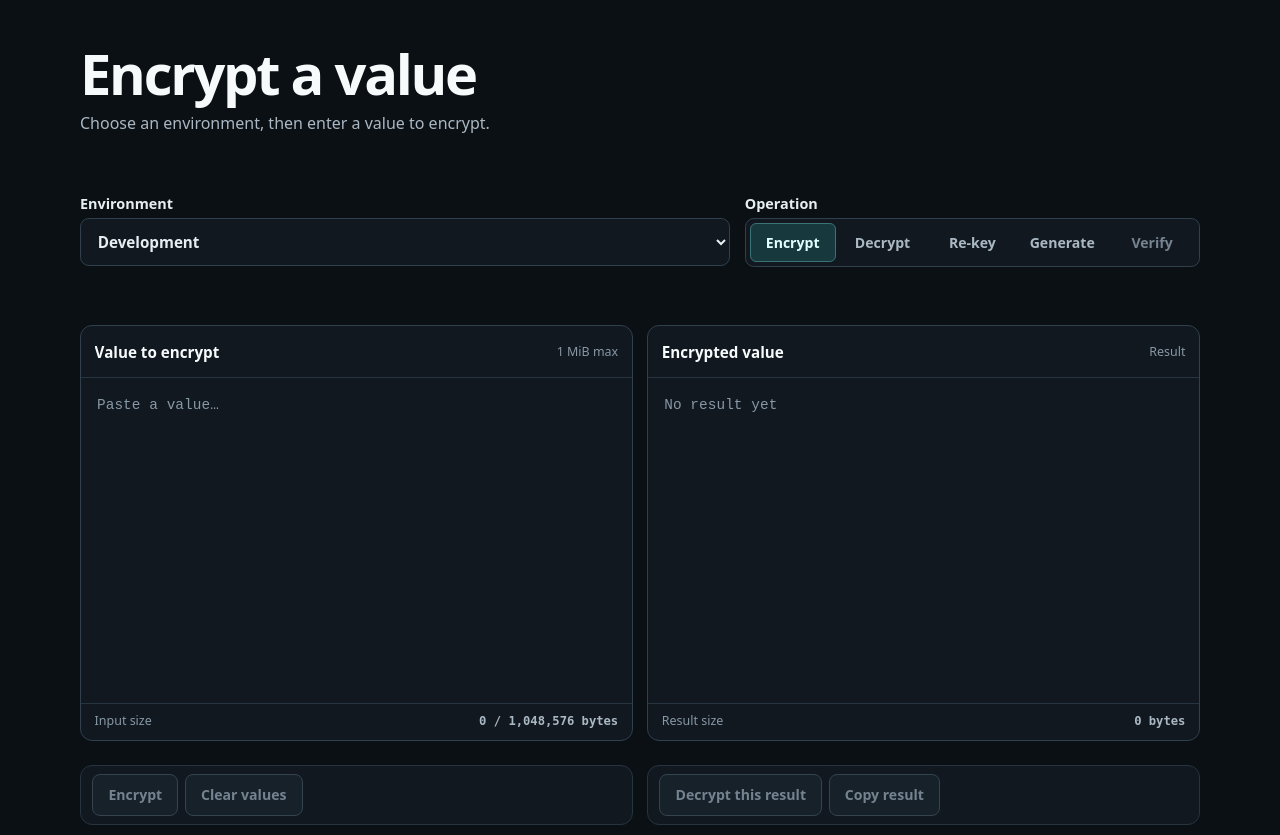
Test: Generate view integration › offers recovery when a forbidden capability refresh fails
The width and height of the screenshot is (1280, 835).
Click the button with aria-label "Set generate mode": (1062, 242) [1019,223,1105,262]
(page scrolled)
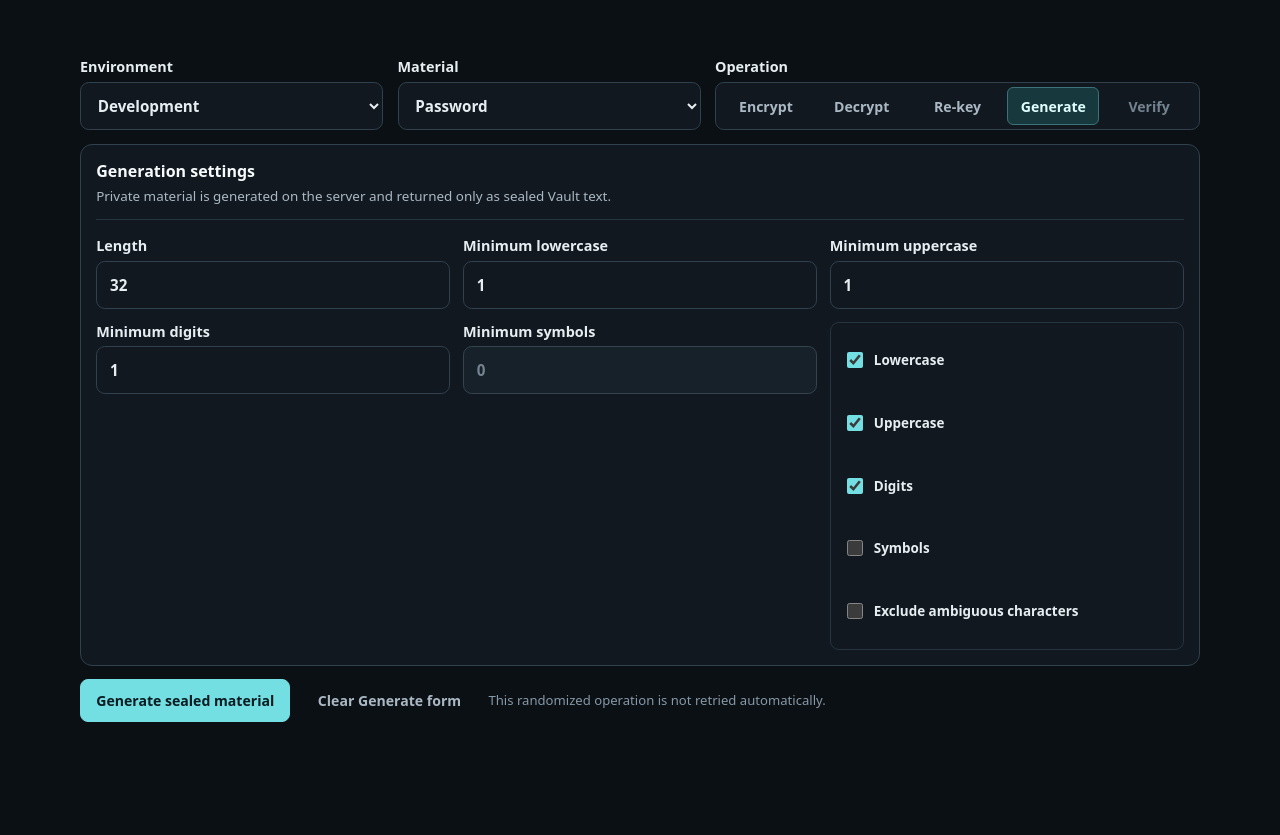
Click the button "Generate sealed material": (185, 701) [80,679,290,722]
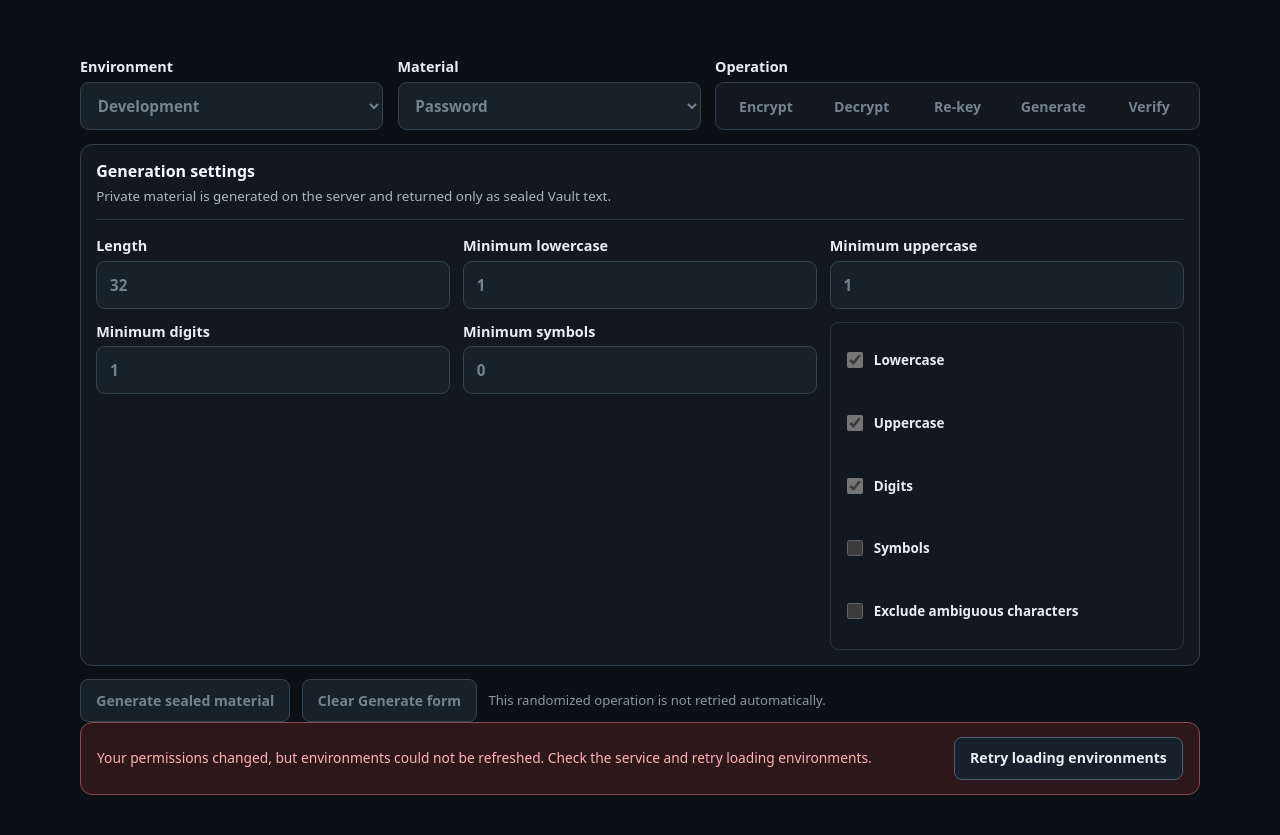
Check: the button with aria-label "Set encrypt mode" is disabled, box [720,87,812,125]
Check: the message shows "environments could not be refreshed", box [97,748,872,767]
Check: the button "Retry loading environments" is enabled
Click the button "Retry loading environments": (1068, 758) [954,737,1183,780]
(page scrolled)
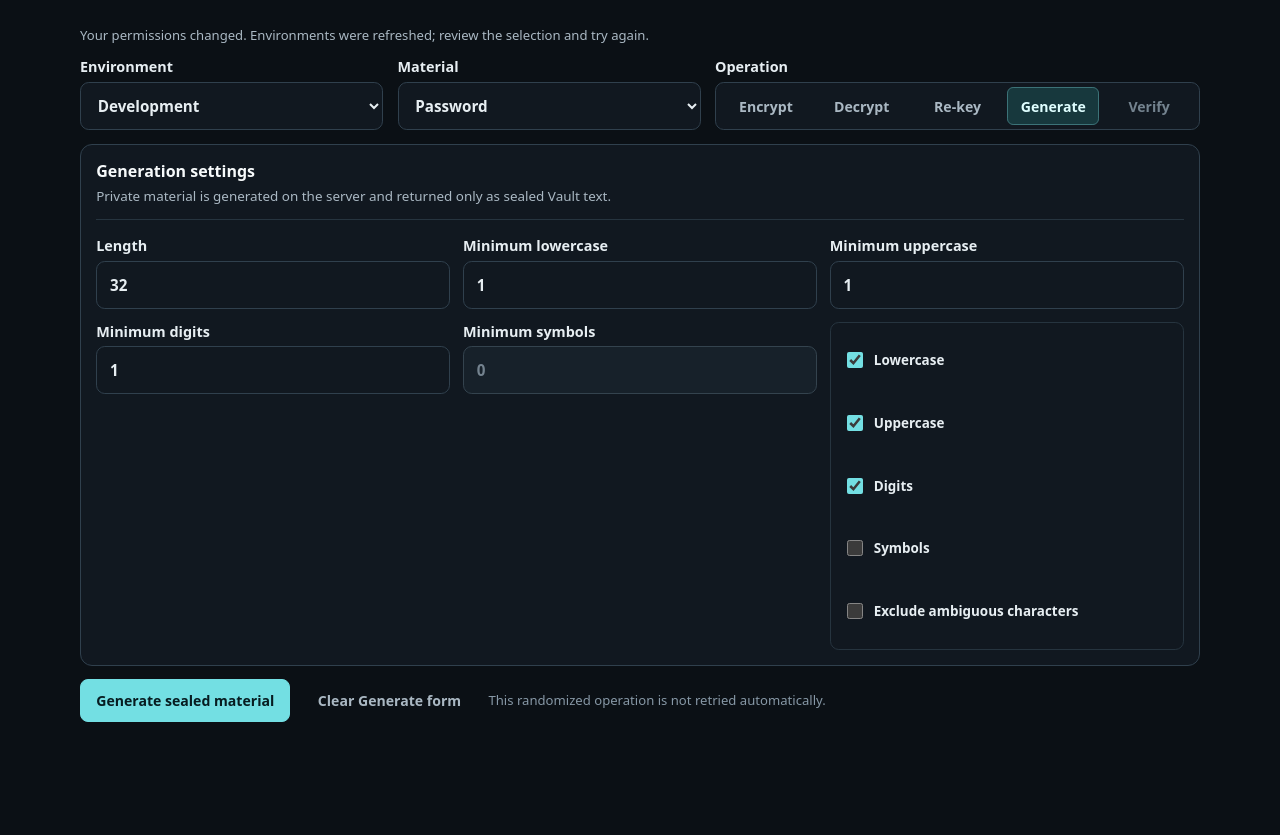
Check: the message shows "permissions changed", box [80,26,649,44]
Check: the button "Generate sealed material" is enabled, box [80,679,290,722]
